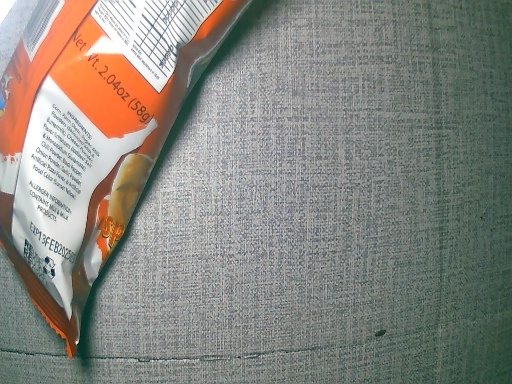plastic: (1, 1, 263, 369)
